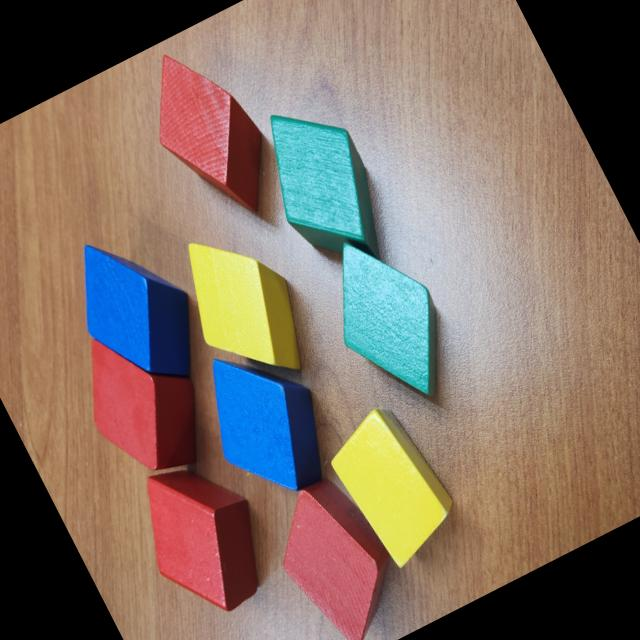blue: (53, 214, 223, 410), (181, 326, 351, 518)
green: (306, 218, 474, 422), (242, 86, 408, 290)
red: (126, 32, 304, 254), (119, 440, 289, 632), (60, 308, 226, 494), (254, 464, 424, 640)
yellow: (162, 212, 326, 404), (316, 397, 468, 578)
